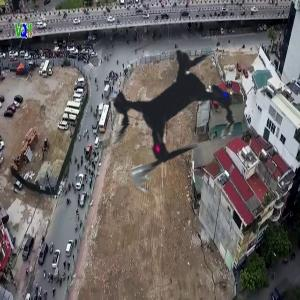drone: (63, 3, 289, 229)
